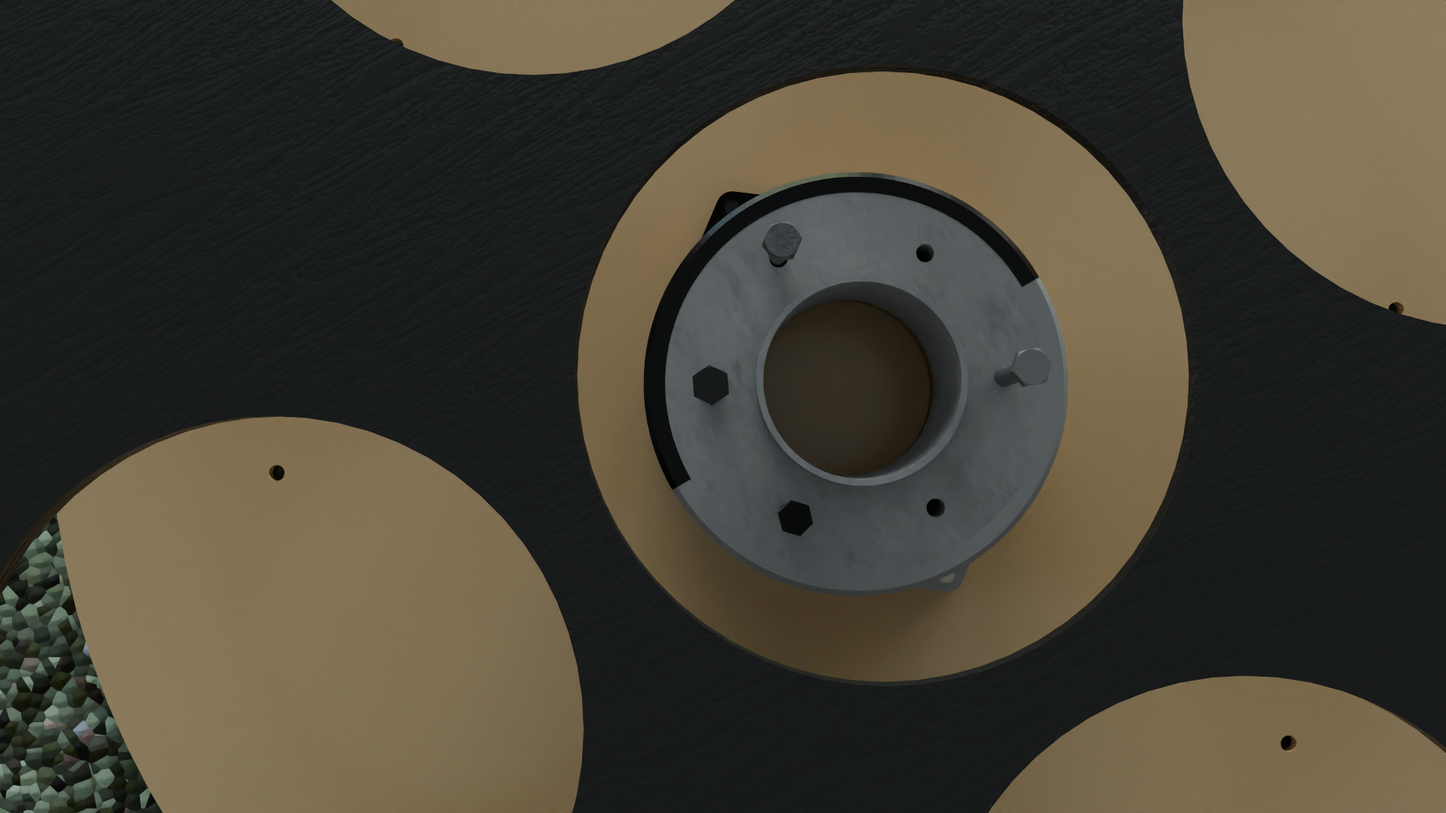bolt: (1012, 348, 1052, 386), (762, 222, 802, 259), (693, 365, 729, 405), (778, 501, 813, 536)
